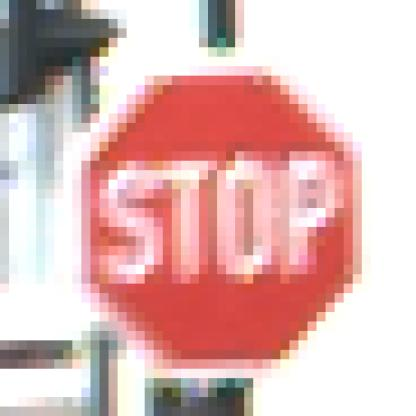Stop: (76, 68, 368, 366)
